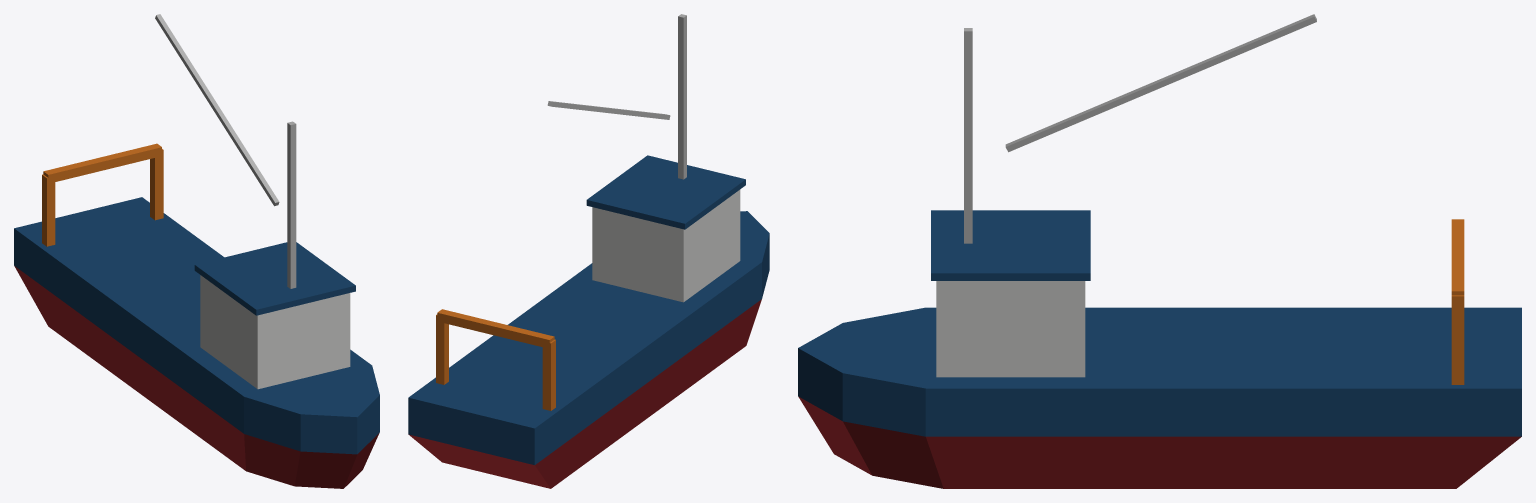
File: ship_fishing.glb
3 views of the same model, side by side, from view 1: azimuth 30°, elevation 25°; view 2: azimuth 150°, elevation 25°; view 3: azimuth 270°, elevation 25° (orthographic). The views are drawn at different scales.
Visible parts, largest first — view 1: ship_fishing; view 2: ship_fishing; view 3: ship_fishing.
Part boxes in pixels (bbox=[...]): ship_fishing: bbox=[14, 14, 379, 488]; ship_fishing: bbox=[408, 14, 769, 488]; ship_fishing: bbox=[798, 14, 1521, 488].
Size of the model in its own units: 9 by 22.74 by 34.
